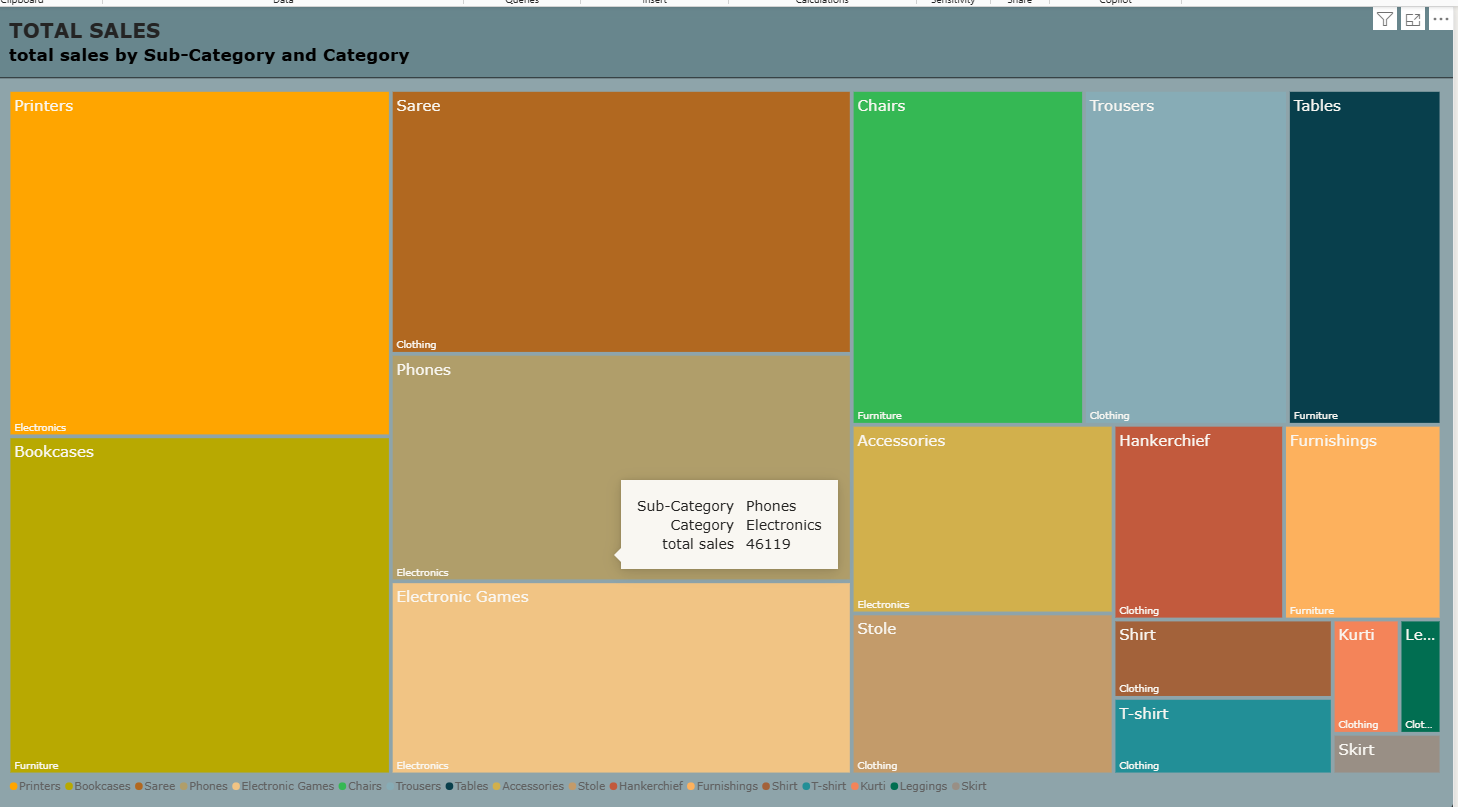

Layout of this report page (visuals, bound fields, positions):
{"tool":"powerbi","page":{"name":"TREE MAP","canvas":[1920,1080],"ordinal":3},"visuals":[{"type":"treemap","title":"TOTAL SALES","fields":{"Details":["Order Details.Category"],"Group":["Order Details.Sub-Category"],"Values":["Order Details.total sales"]},"box":[0,0,1920.3,1057.6],"z":0}]}

Visuals, with their boxes on the page's 1920x1080 design canvas (x1, y1, x2, y2). These are canvas units, not pixel positions in the 1458x807 screenshot, which may show the page scaled, cropped or inside an application window:
"TOTAL SALES" treemap: 0, 0, 1920, 1058
